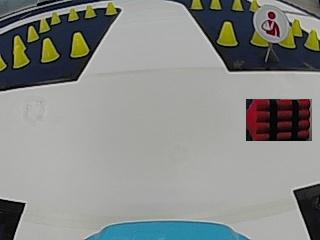cone: (217, 21, 238, 46), (13, 36, 29, 67), (70, 32, 89, 57), (41, 38, 59, 61), (304, 28, 319, 50), (280, 28, 295, 48), (27, 25, 39, 41), (104, 2, 117, 15), (67, 7, 79, 21), (84, 5, 96, 18), (50, 11, 61, 24), (39, 18, 50, 31), (190, 0, 203, 10), (232, 0, 243, 11), (210, 0, 221, 10), (0, 53, 6, 70)
patient: (255, 6, 287, 41)
